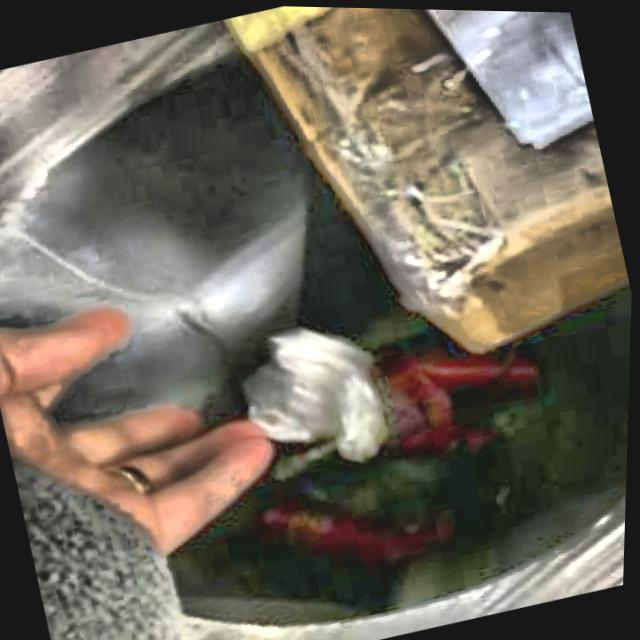metal: (245, 328, 385, 459)
